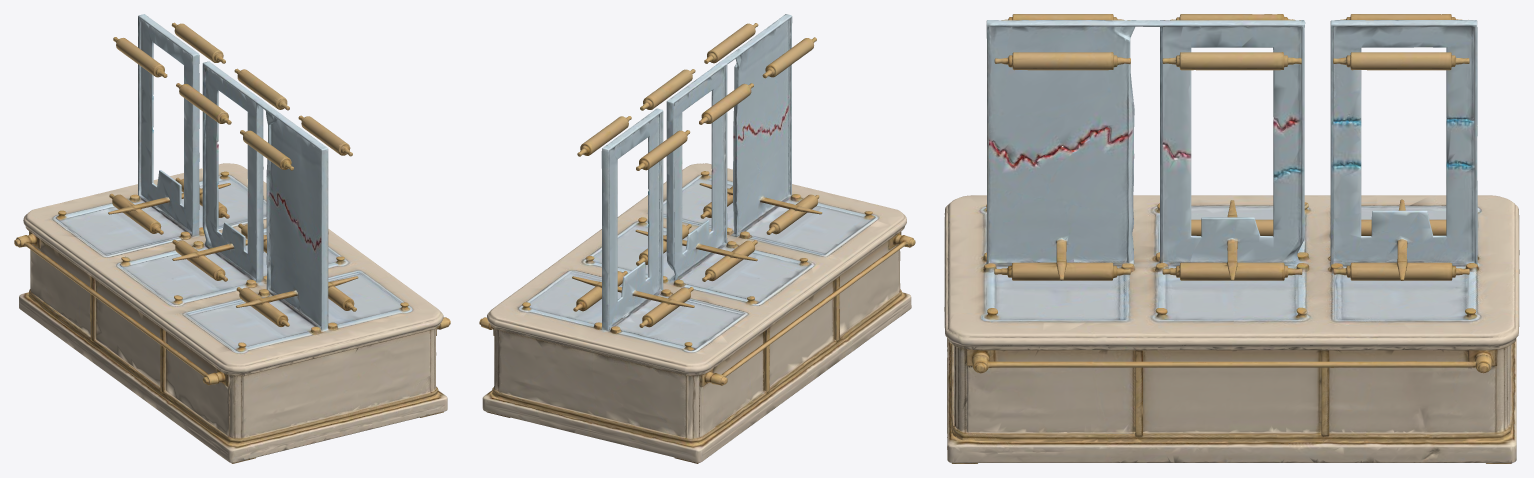
The picture shows the model from 3 angles, left to right: view 1: azimuth 30°, elevation 25°; view 2: azimuth 150°, elevation 25°; view 3: azimuth 270°, elevation 25°; orthographic projection. The views are drawn at different scales.
Visible parts, largest first — view 1: tripo_node_fef426bb-cc92-4650-a7e4-21fa0d8543c9; view 2: tripo_node_fef426bb-cc92-4650-a7e4-21fa0d8543c9; view 3: tripo_node_fef426bb-cc92-4650-a7e4-21fa0d8543c9.
Part boxes in pixels (x1,y1,x2,y2): tripo_node_fef426bb-cc92-4650-a7e4-21fa0d8543c9: (14, 14, 450, 463); tripo_node_fef426bb-cc92-4650-a7e4-21fa0d8543c9: (479, 14, 915, 463); tripo_node_fef426bb-cc92-4650-a7e4-21fa0d8543c9: (944, 14, 1519, 463).
Size of the model in its own units: 0.657 by 0.7166 by 0.9999.
Materials: 1 (1 with a texture image).
